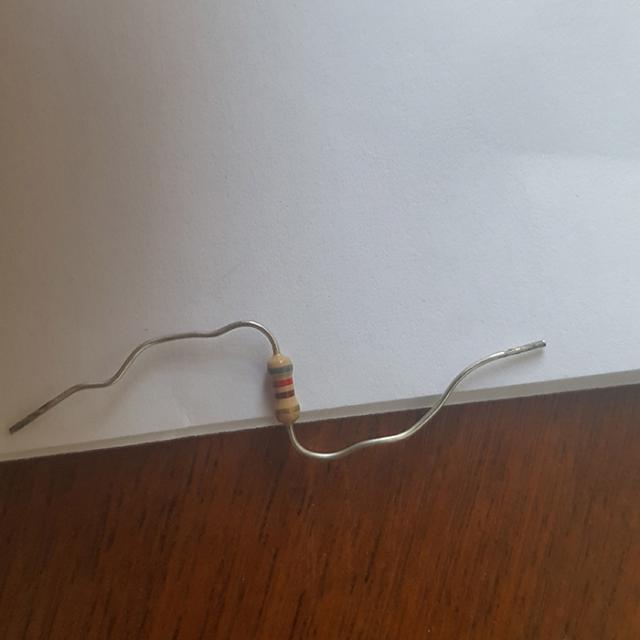brown: (275, 391, 293, 398)
gold: (276, 405, 299, 413)
grey: (267, 365, 291, 374)
red: (272, 379, 292, 387)
resistor: (256, 351, 313, 430)
